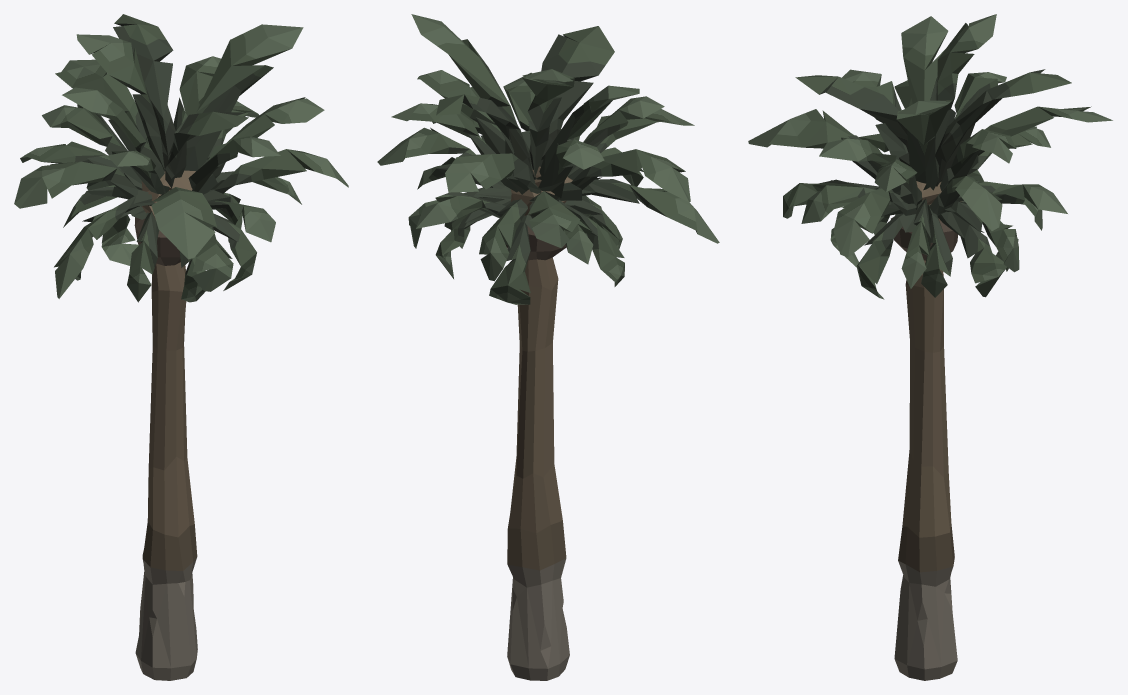
Rendered from SM_Env_Tree_Large_01.glb.
3 views of the same model, side by side, from view 1: azimuth 30°, elevation 25°; view 2: azimuth 150°, elevation 25°; view 3: azimuth 270°, elevation 25° (orthographic).
Visible parts, largest first — view 1: SM_Env_Tree_Large_01; view 2: SM_Env_Tree_Large_01; view 3: SM_Env_Tree_Large_01.
Boxes of the visible parts, <box> form: SM_Env_Tree_Large_01: <box>14,14,348,680</box>; SM_Env_Tree_Large_01: <box>377,14,719,680</box>; SM_Env_Tree_Large_01: <box>748,14,1112,680</box>.
Size of the model in its own units: 5.49 by 11.23 by 5.87.
1 material, 1 textured.
